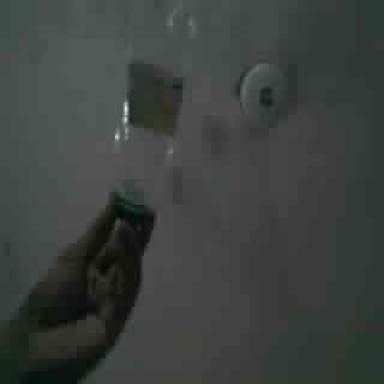bottle: (114, 0, 196, 224)
